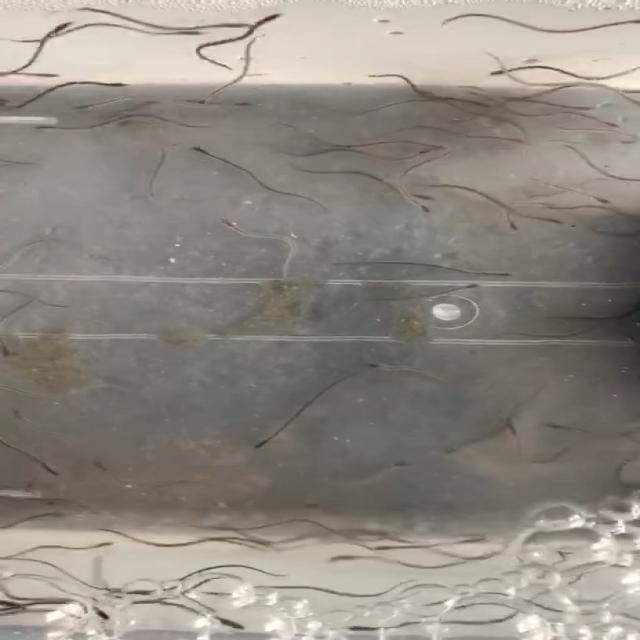active_glass_eel: (68, 602, 112, 626), (214, 218, 253, 240), (208, 612, 248, 633), (582, 190, 628, 208), (359, 541, 413, 556), (188, 144, 228, 164), (106, 580, 160, 594), (320, 552, 370, 567), (228, 534, 272, 550), (87, 458, 126, 476), (349, 618, 397, 632), (504, 417, 535, 438), (13, 66, 63, 79), (35, 462, 71, 480), (195, 586, 241, 600), (487, 64, 527, 80), (214, 16, 258, 30), (443, 279, 484, 294), (398, 188, 436, 204), (44, 16, 77, 34), (250, 431, 279, 451), (476, 269, 522, 281), (96, 79, 134, 93), (72, 542, 114, 554), (222, 99, 262, 111), (375, 462, 409, 476), (366, 358, 394, 375), (413, 145, 451, 157), (546, 218, 584, 230), (162, 29, 207, 39), (534, 418, 562, 434), (506, 214, 527, 235), (412, 193, 432, 215), (198, 88, 220, 108), (0, 339, 19, 362), (591, 118, 622, 132), (552, 101, 594, 111), (48, 507, 77, 521), (264, 10, 291, 25), (436, 443, 469, 455), (36, 124, 68, 134), (73, 104, 108, 113)
